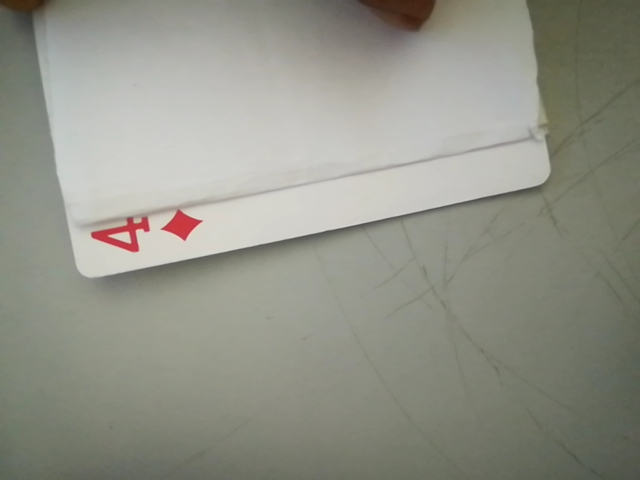fk 4: (80, 203, 211, 263)
